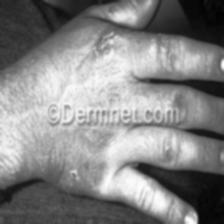Toxin: (41, 152, 82, 188), (94, 27, 120, 63), (156, 32, 174, 55), (174, 92, 188, 110)
